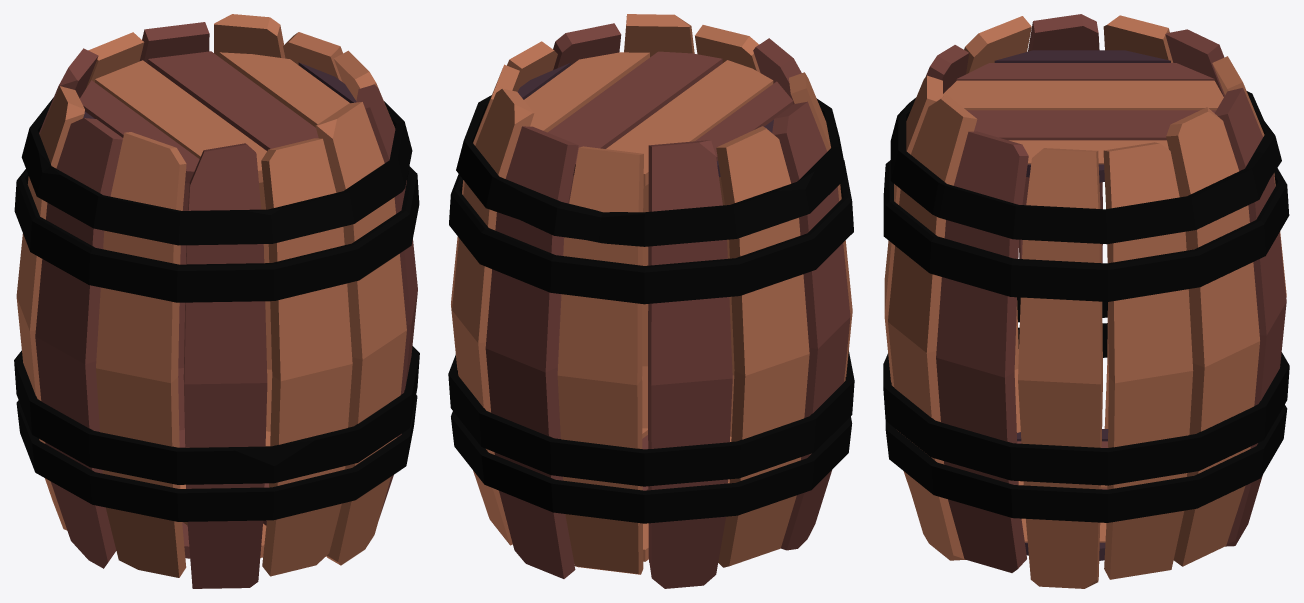
Rendered from Barrel_01.fbx.
3 renders of one model, left to right at view 1: azimuth 30°, elevation 25°; view 2: azimuth 150°, elevation 25°; view 3: azimuth 270°, elevation 25°, orthographic.
Parts seen in each view (by area): view 1: Barrel 02, Barrel 01 Lid.001, Barrel 01 Bottom.001; view 2: Barrel 02, Barrel 01 Lid.001; view 3: Barrel 02, Barrel 01 Lid.001, Barrel 01 Bottom.001.
Boxes of the visible parts, left/top/right/bottom form: Barrel 02: left=14, top=14, right=419, bottom=588; Barrel 01 Lid.001: left=80, top=51, right=356, bottom=183; Barrel 01 Bottom.001: left=179, top=429, right=270, bottom=558; Barrel 02: left=448, top=14, right=854, bottom=588; Barrel 01 Lid.001: left=517, top=51, right=793, bottom=185; Barrel 02: left=883, top=14, right=1289, bottom=588; Barrel 01 Lid.001: left=943, top=50, right=1223, bottom=182; Barrel 01 Bottom.001: left=1017, top=429, right=1108, bottom=560.
Bounding box in the file's own units: 96.04 × 116 × 95.34.
